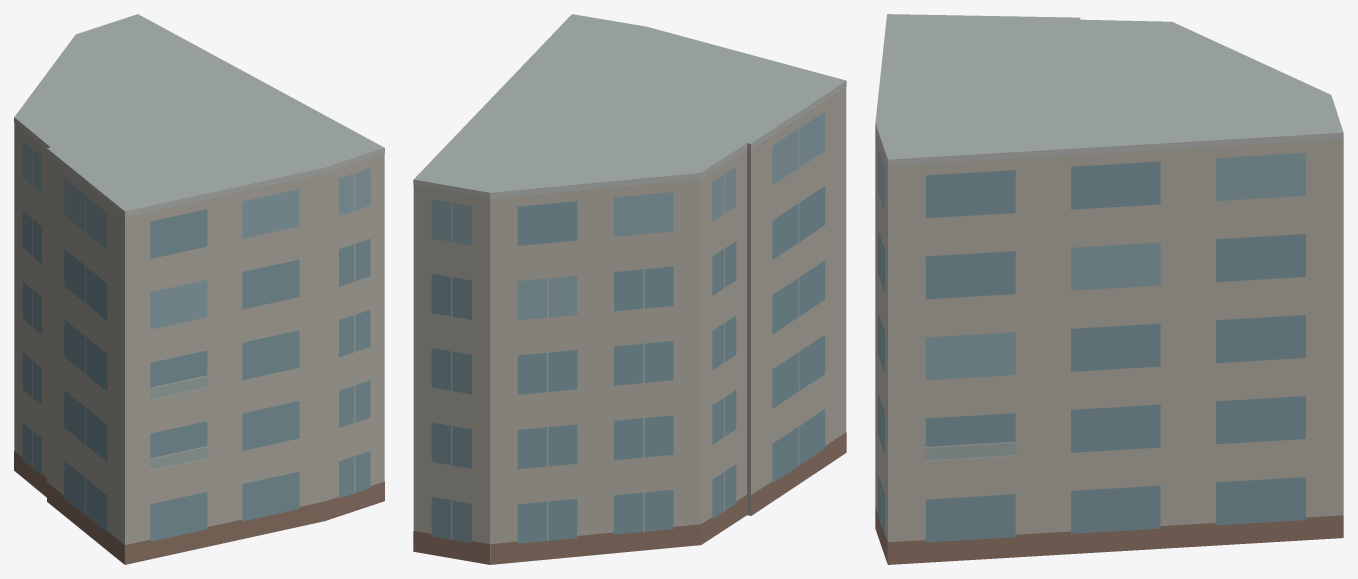
The model's file is survey-upis-32926670.glb.
The picture shows the model from 3 angles, left to right: view 1: azimuth 30°, elevation 25°; view 2: azimuth 150°, elevation 25°; view 3: azimuth 270°, elevation 25°; orthographic projection. The views are drawn at different scales.
Visible parts, largest first — view 1: survey-upis-32926670.tmp; view 2: survey-upis-32926670.tmp; view 3: survey-upis-32926670.tmp.
Part boxes in pixels (box(x1,y1,x2,y2)): survey-upis-32926670.tmp: box(14, 14, 384, 564); survey-upis-32926670.tmp: box(413, 14, 846, 564); survey-upis-32926670.tmp: box(875, 14, 1343, 564).
Bounding box in the file's own units: 11.76 × 15.25 × 15.98.
